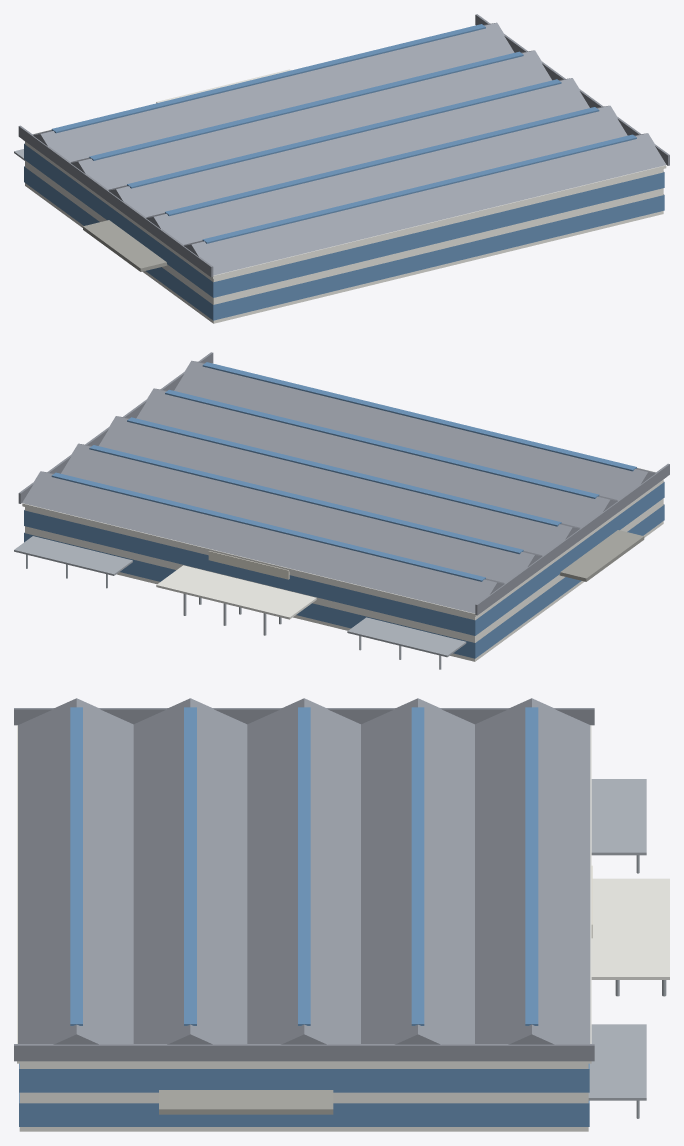
The model's file is env_lm3_kl_sentral.fbx.
3 renders of one model, top to bottom at view 1: azimuth 30°, elevation 25°; view 2: azimuth 150°, elevation 25°; view 3: azimuth 270°, elevation 25°, orthographic. The views are drawn at different scales.
Visible parts, largest first — view 1: env_lm3_kl_sentral_geo_LOD0; view 2: env_lm3_kl_sentral_geo_LOD0; view 3: env_lm3_kl_sentral_geo_LOD0.
Boxes of the visible parts, box(x1,y1,x2,y2) form: env_lm3_kl_sentral_geo_LOD0: box(14, 14, 669, 323); env_lm3_kl_sentral_geo_LOD0: box(14, 352, 669, 669); env_lm3_kl_sentral_geo_LOD0: box(14, 698, 669, 1131).
Size of what is drawn, in the model's own units: 151 by 19.1 by 113.
